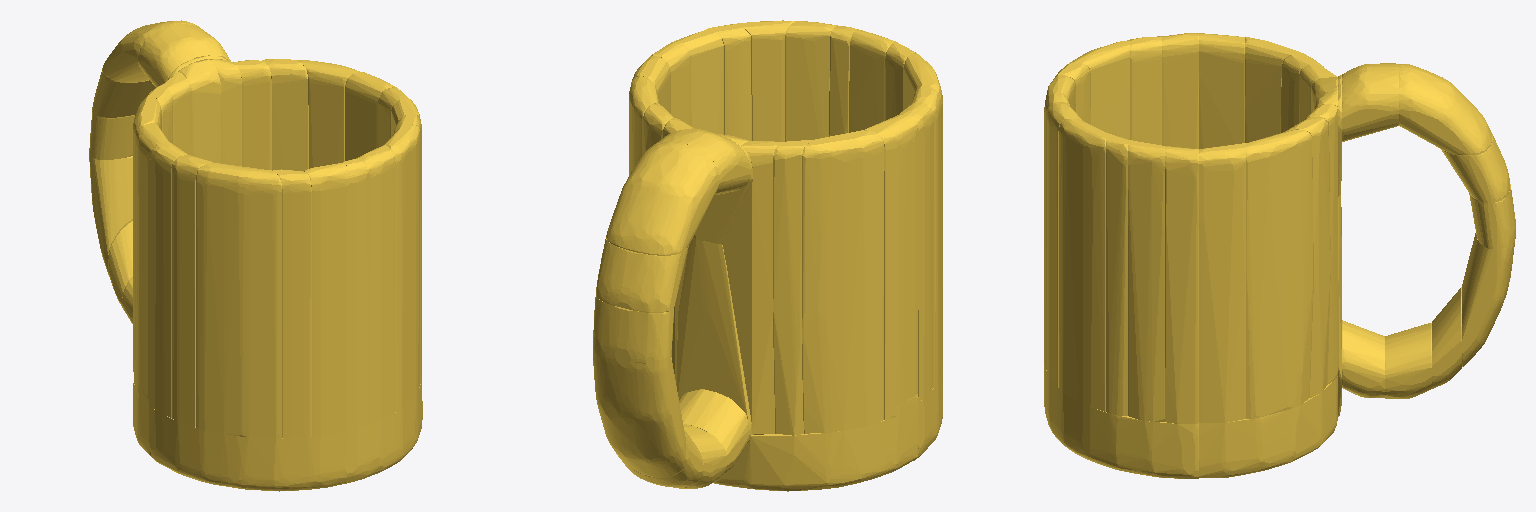
robot.urdf — 1047.urdf:
<?xml version="1.0" ?>
<robot name="1047.urdf">
	<link name="baseLink">
		<inertial>
			<origin rpy="0 0 0" xyz="0 0 0"/>
				<mass value="0.1"/>
				<inertia ixx="6e-5" ixy="0" ixz="0" iyy="6e-5" iyz="0" izz="6e-5"/>
		</inertial>
		<visual>
			<origin rpy="0 0 0" xyz="0 0 0"/>
			<geometry>
				<mesh filename="32_decom_wt.obj" scale="0.83 0.83 1.17"/>
			</geometry>
			<material name="yellow">
				<color rgba="0.98 0.84 0.35 1"/>
			</material>
		</visual>
		<collision>
			<origin rpy="0 0 0" xyz="0 0 0"/>
			<geometry>
				<mesh filename="32_decom_wt.obj" scale="0.83 0.83 1.17"/>
			</geometry>
		</collision>
	</link>
</robot>

--- Facts derived from the render (not from the file) ---
Views: 3 orthographic renders of the robot side by side, from view 1: azimuth 30°, elevation 25°; view 2: azimuth 150°, elevation 25°; view 3: azimuth 270°, elevation 25°.
Model 1047.urdf with 1 links and 0 joints (none), rooted at baseLink, posed all joints at 0.
Visible links, largest first — view 1: baseLink; view 2: baseLink; view 3: baseLink.
Boxes of the visible links, x1,y1,x2,y2 form: baseLink: (89,20,422,491); baseLink: (593,20,942,491); baseLink: (1044,33,1515,478).
Bounding box of the posed robot: 0.0791 × 0.1248 × 0.1018 m (x, y, z).
Meshes: 1 distinct files referenced, 1 mesh visuals loaded (1 OBJ).